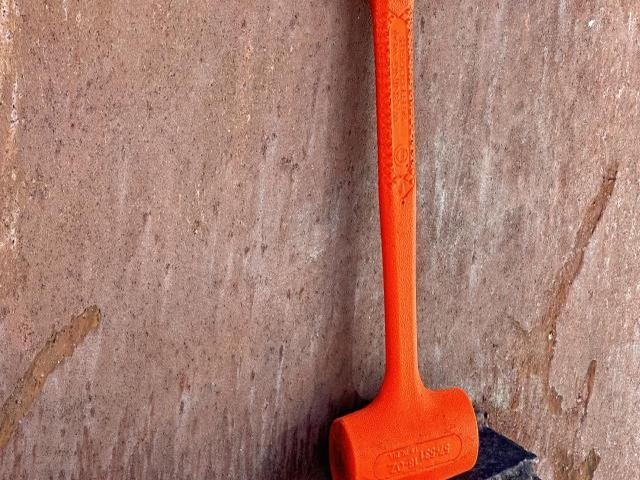hammer: (327, 0, 480, 480)
